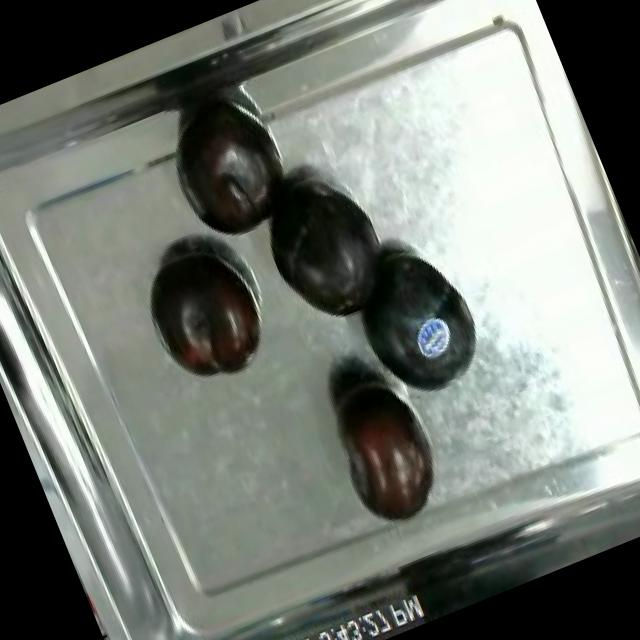Fruit: (332, 224, 502, 414), (244, 158, 407, 344), (310, 360, 457, 541), (130, 232, 280, 400), (158, 96, 300, 254)
